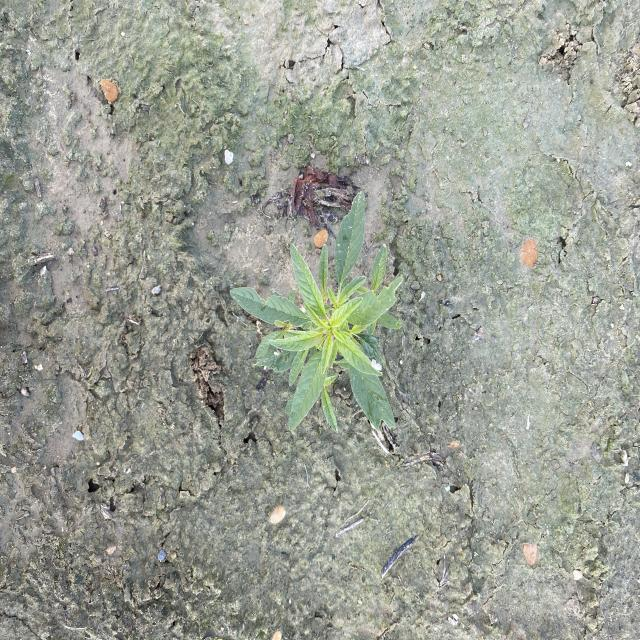Waterhemp: (228, 190, 406, 436)
